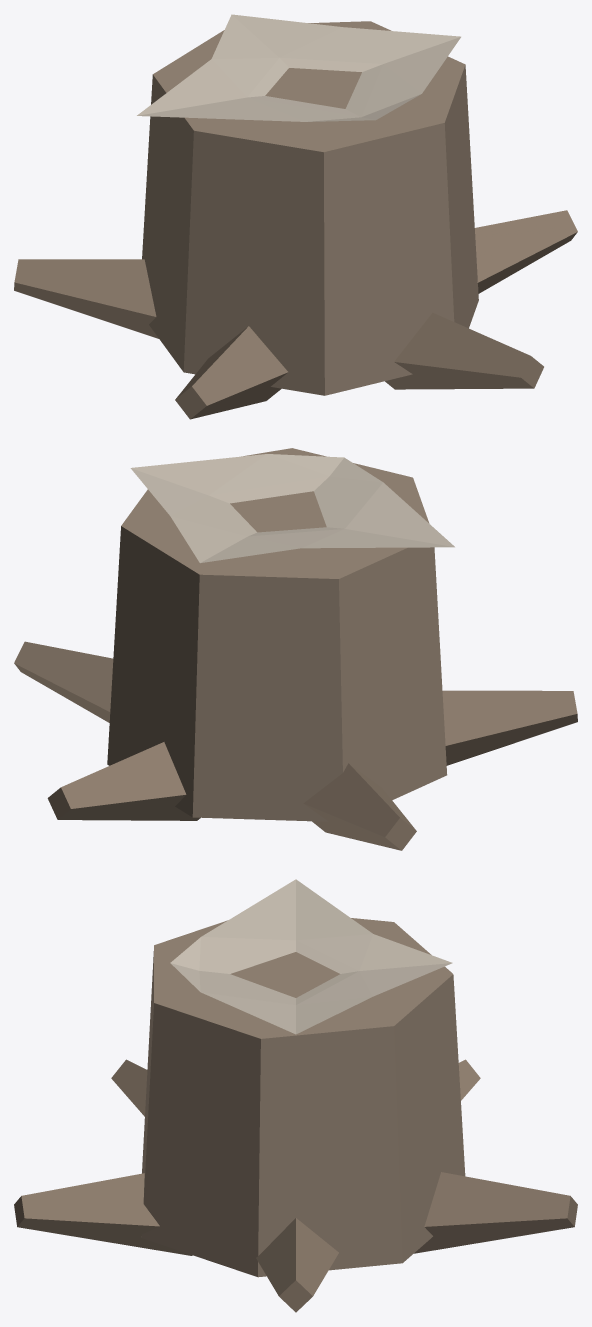
The model's file is stump_v25.glb.
3 renders of one model, top to bottom at view 1: azimuth 30°, elevation 25°; view 2: azimuth 150°, elevation 25°; view 3: azimuth 270°, elevation 25°, orthographic. The views are drawn at different scales.
Parts seen in each view (by area): view 1: lod0; view 2: lod0; view 3: lod0.
Boxes of the visible parts, box(x1,y1,x2,y2) form: lod0: box(14, 14, 577, 419); lod0: box(14, 448, 577, 850); lod0: box(14, 879, 577, 1312).
Size of what is drawn, in the model's own units: 0.8812 by 0.5292 by 0.9227.
